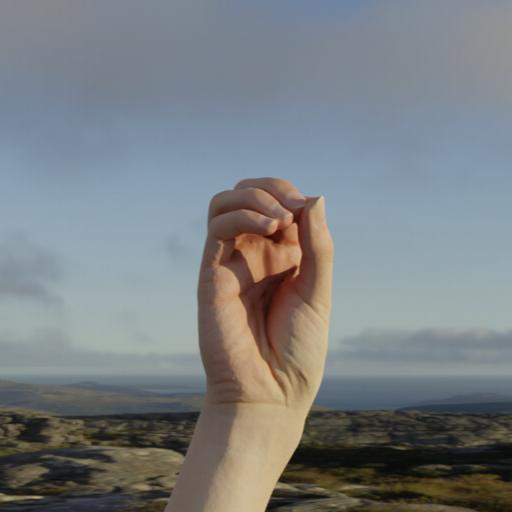O: (196, 171, 336, 427)
